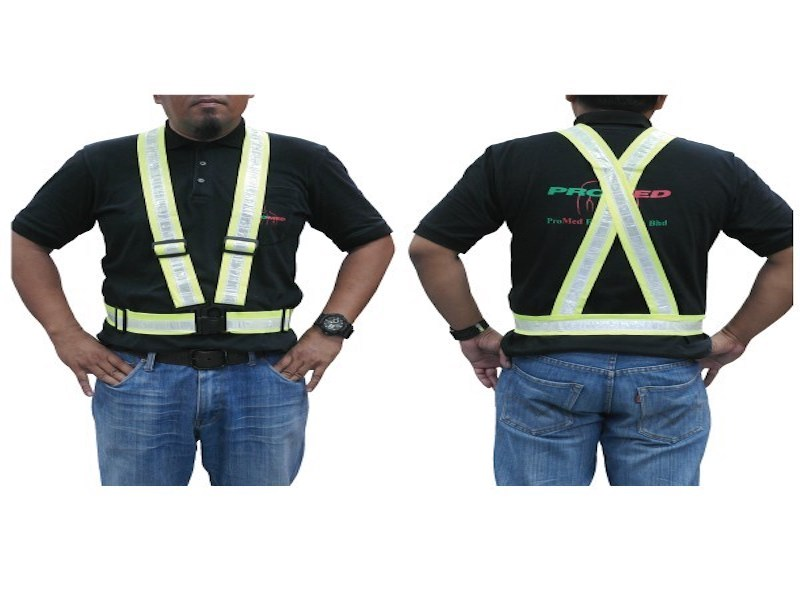vest: (98, 131, 313, 344)
